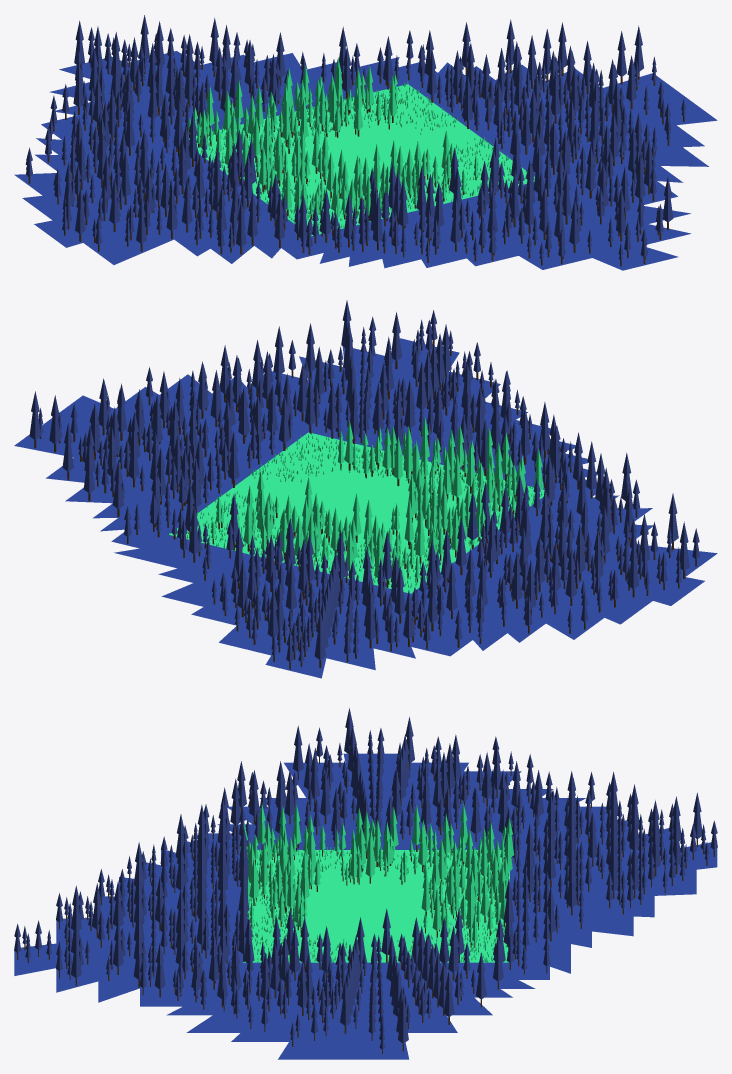
File: forest_abstract_TEST02.glb
The picture shows the model from 3 angles, top to bottom: view 1: azimuth 30°, elevation 25°; view 2: azimuth 150°, elevation 25°; view 3: azimuth 270°, elevation 25°; orthographic projection. The views are drawn at different scales.
Visible parts, largest first — view 1: Plane.004, Plane.005; view 2: Plane.004, Plane.005; view 3: Plane.004, Plane.005.
Boxes of the visible parts, bbox=[...] form: Plane.004: bbox=[14, 51, 717, 270]; Plane.005: bbox=[188, 84, 534, 236]; Plane.004: bbox=[14, 338, 717, 678]; Plane.005: bbox=[169, 432, 544, 593]; Plane.004: bbox=[14, 753, 717, 1059]; Plane.005: bbox=[243, 850, 509, 962].
Bounding box in the file's own units: 35.5 × 4.94 × 34.53.
